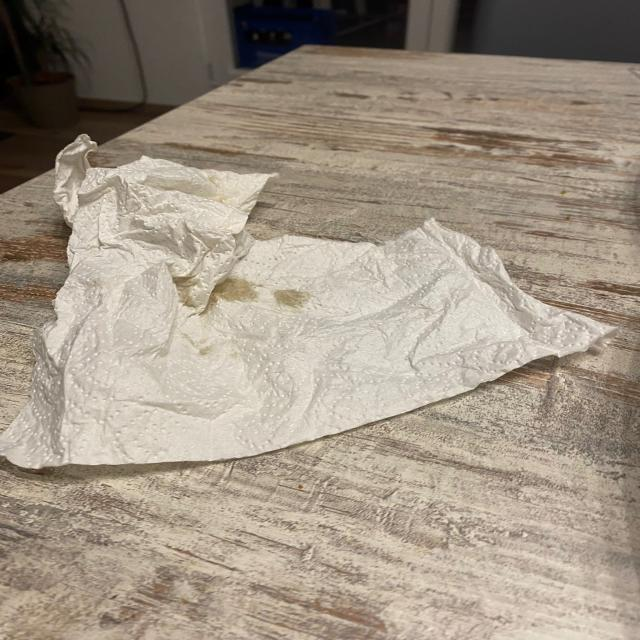kitchen paper: (0, 132, 610, 473)
